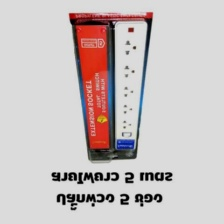book: (66, 7, 159, 164)
three_eye_plug: (111, 17, 150, 152)
